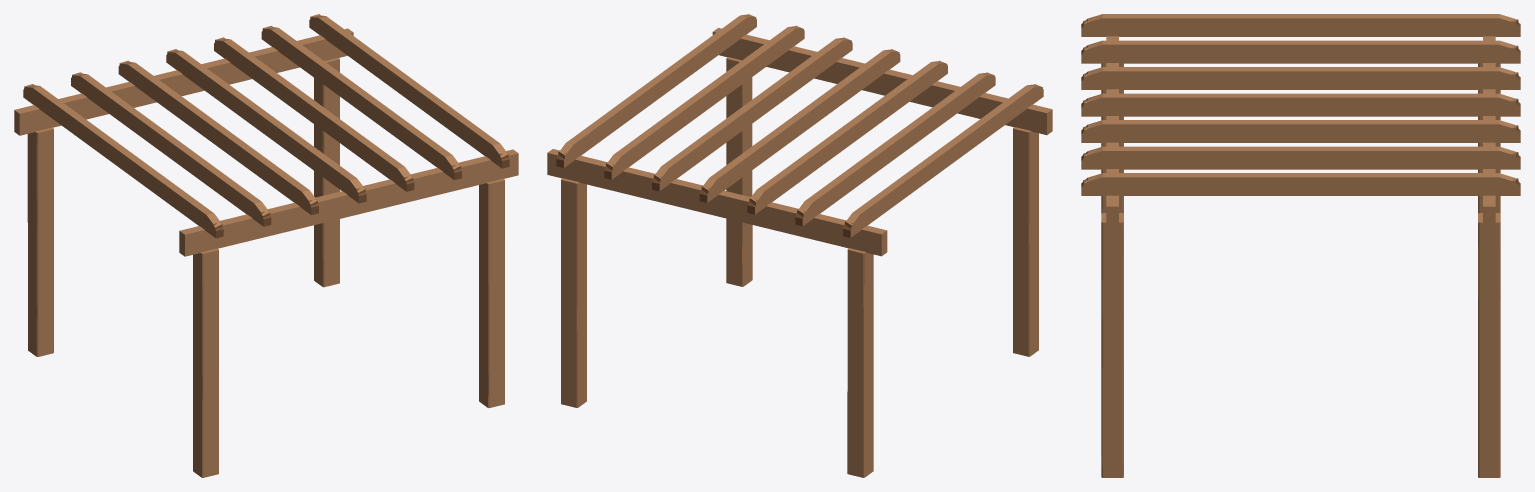
Rendered from FMS_Garden_Pergola.fbx.
The picture shows the model from 3 angles, left to right: view 1: azimuth 30°, elevation 25°; view 2: azimuth 150°, elevation 25°; view 3: azimuth 270°, elevation 25°; orthographic projection. The views are drawn at different scales.
Visible parts, largest first — view 1: FMS_Garden_Pergola_Rafters, FMS_Garden_Pergola_Posts, FMS_Garden_Pergola_Beams, FMS_Garden_Pergola_Rafters_Low1, FMS_Garden_Pergola_Posts_Low1; view 2: FMS_Garden_Pergola_Rafters, FMS_Garden_Pergola_Posts, FMS_Garden_Pergola_Beams, FMS_Garden_Pergola_Rafters_Low1, FMS_Garden_Pergola_Posts_Low1; view 3: FMS_Garden_Pergola_Rafters, FMS_Garden_Pergola_Rafters_Low1, FMS_Garden_Pergola_Posts, FMS_Garden_Pergola_Beams, FMS_Garden_Pergola_Posts_Low1.
Part boxes in pixels (x1,y1,x2,y2): FMS_Garden_Pergola_Rafters: [23, 15, 509, 238]; FMS_Garden_Pergola_Posts: [28, 57, 504, 477]; FMS_Garden_Pergola_Beams: [14, 28, 518, 256]; FMS_Garden_Pergola_Rafters_Low1: [23, 14, 508, 236]; FMS_Garden_Pergola_Posts_Low1: [27, 59, 504, 477]; FMS_Garden_Pergola_Rafters: [556, 14, 1043, 237]; FMS_Garden_Pergola_Posts: [561, 57, 1038, 477]; FMS_Garden_Pergola_Beams: [547, 28, 1052, 256]; FMS_Garden_Pergola_Rafters_Low1: [558, 14, 1042, 235]; FMS_Garden_Pergola_Posts_Low1: [561, 57, 1029, 477]; FMS_Garden_Pergola_Rafters: [1081, 14, 1520, 195]; FMS_Garden_Pergola_Rafters_Low1: [1081, 15, 1520, 195]; FMS_Garden_Pergola_Posts: [1101, 63, 1500, 477]; FMS_Garden_Pergola_Beams: [1106, 36, 1495, 231]; FMS_Garden_Pergola_Posts_Low1: [1101, 63, 1500, 477].
Size of the model in its own units: 3.5 by 2.62 by 3.5.
Materials: 1 (1 with a texture image).
